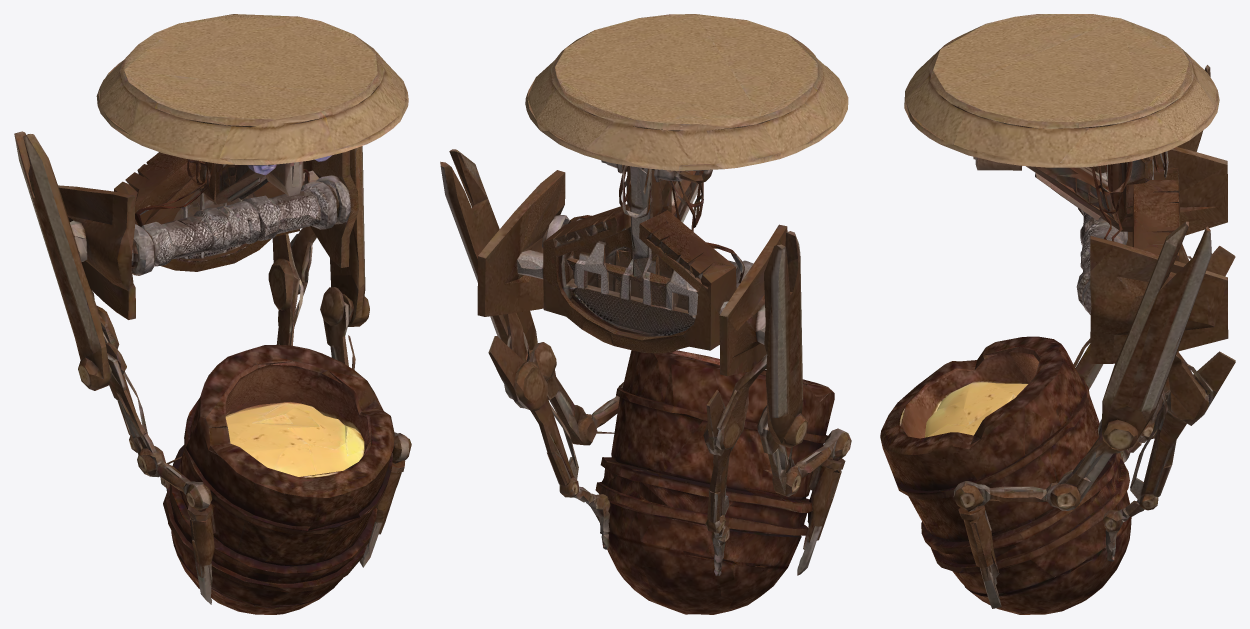
File: droidplatform.glb
3 views of the same model, side by side, from view 1: azimuth 30°, elevation 25°; view 2: azimuth 150°, elevation 25°; view 3: azimuth 270°, elevation 25° (orthographic). The views are drawn at different scales.
Visible parts, largest first — view 1: droidplatform-centred; view 2: droidplatform-centred; view 3: droidplatform-centred.
Boxes of the visible parts, x1,y1,x2,y2 form: droidplatform-centred: [14, 14, 411, 614]; droidplatform-centred: [440, 14, 851, 614]; droidplatform-centred: [880, 14, 1235, 614].
Size of the model in its own units: 4.37 by 6.6 by 3.95.
Materials: 1 (1 with a texture image).
